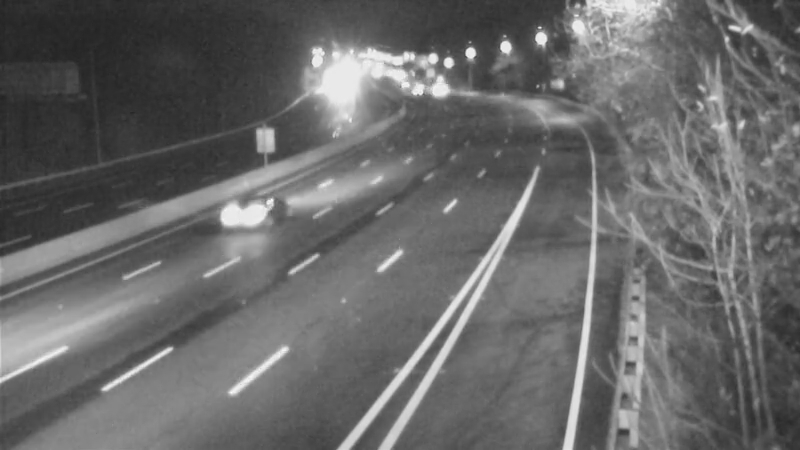vehicle: (203, 176, 283, 256), (417, 71, 467, 121), (393, 66, 443, 116)
